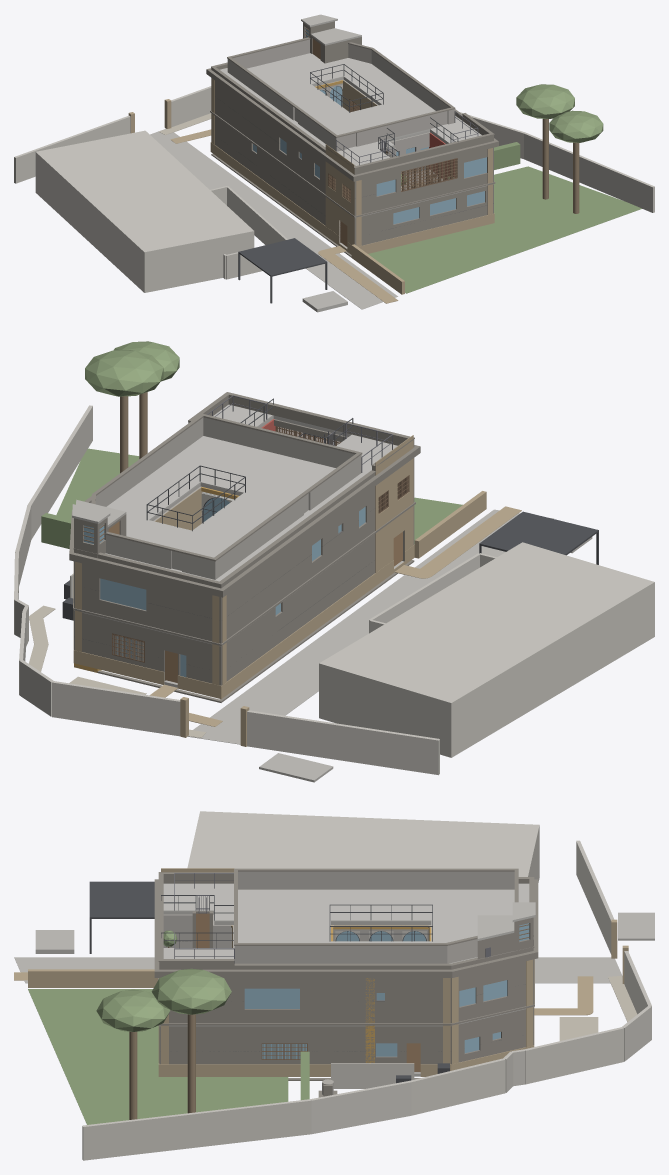
File: taif_house_V9.1.glb
The picture shows the model from 3 angles, top to bottom: view 1: azimuth 30°, elevation 25°; view 2: azimuth 150°, elevation 25°; view 3: azimuth 270°, elevation 25°; orthographic projection. The views are drawn at different scales.
Parts seen in each view (by area): view 1: chr_site_plaster_old_house, chr_site_foliage_garden, roof_finish_floor, roof_attic_wall, chr_site_plaster_farm_wall_north_east, chr_site_concrete_driveway, gf_outer, ff_outer, chr_base_stone_plinth, roof_cornice, chr_site_steel_old_carport, chr_site_plaster_old_annex (+23 smaller); view 2: chr_site_plaster_old_house, roof_finish_floor, ff_outer, chr_site_plaster_farm_wall_north_east, roof_attic_wall, gf_outer, chr_site_concrete_driveway, chr_site_plaster_farm_wall_north, chr_base_stone_plinth, roof_cornice, chr_base_stone_feature_wall_00, chr_site_foliage_garden (+24 smaller); view 3: chr_site_plaster_farm_wall_north_east, chr_site_plaster_old_house, roof_finish_floor, chr_site_foliage_garden, roof_attic_wall, ff_outer, gf_outer, chr_site_concrete_driveway, roof_cornice, chr_site_foliage_palm_1_crown, chr_base_stone_plinth, chr_site_steel_old_carport (+31 smaller).
Part boxes in pixels (left/top/right/bottom): chr_site_plaster_old_house: left=35, top=130, right=254, bottom=292; chr_site_foliage_garden: left=368, top=166, right=641, bottom=293; roof_finish_floor: left=220, top=53, right=481, bottom=165; roof_attic_wall: left=227, top=39, right=454, bottom=151; chr_site_plaster_farm_wall_north_east: left=171, top=86, right=654, bottom=212; chr_site_concrete_driveway: left=150, top=129, right=397, bottom=309; gf_outer: left=211, top=113, right=493, bottom=245; ff_outer: left=211, top=78, right=493, bottom=215; chr_base_stone_plinth: left=210, top=142, right=494, bottom=254; roof_cornice: left=206, top=68, right=498, bottom=181; chr_site_steel_old_carport: left=238, top=238, right=327, bottom=303; chr_site_plaster_old_annex: left=210, top=186, right=287, bottom=279; chr_site_plaster_old_house: left=319, top=542, right=654, bottom=757; roof_finish_floor: left=105, top=404, right=397, bottom=581; ff_outer: left=74, top=458, right=414, bottom=643; chr_site_plaster_farm_wall_north_east: left=14, top=405, right=180, bottom=736; roof_attic_wall: left=95, top=417, right=361, bottom=579; gf_outer: left=74, top=505, right=414, bottom=685; chr_site_concrete_driveway: left=188, top=509, right=553, bottom=744; chr_site_plaster_farm_wall_north: left=247, top=710, right=439, bottom=775; chr_base_stone_plinth: left=73, top=544, right=414, bottom=699; roof_cornice: left=69, top=445, right=420, bottom=597; chr_base_stone_feature_wall_00: left=375, top=435, right=413, bottom=572; chr_site_foliage_garden: left=56, top=448, right=462, bottom=543; chr_site_plaster_farm_wall_north_east: left=82, top=951, right=651, bottom=1160; chr_site_plaster_old_house: left=187, top=811, right=539, bottom=882; roof_finish_floor: left=163, top=883, right=529, bottom=963; chr_site_foliage_garden: left=28, top=989, right=288, bottom=1124; roof_attic_wall: left=234, top=871, right=514, bottom=963; ff_outer: left=179, top=959, right=533, bottom=1023; gf_outer: left=159, top=1007, right=533, bottom=1064; chr_site_concrete_driveway: left=14, top=957, right=622, bottom=983; roof_cornice: left=154, top=879, right=538, bottom=977; chr_site_foliage_palm_1_crown: left=151, top=968, right=231, bottom=1014; chr_base_stone_plinth: left=158, top=1045, right=534, bottom=1076; chr_site_steel_old_carport: left=89, top=881, right=154, bottom=953.
Size of the model in its own units: 45.39 by 10.6 by 41.5.
